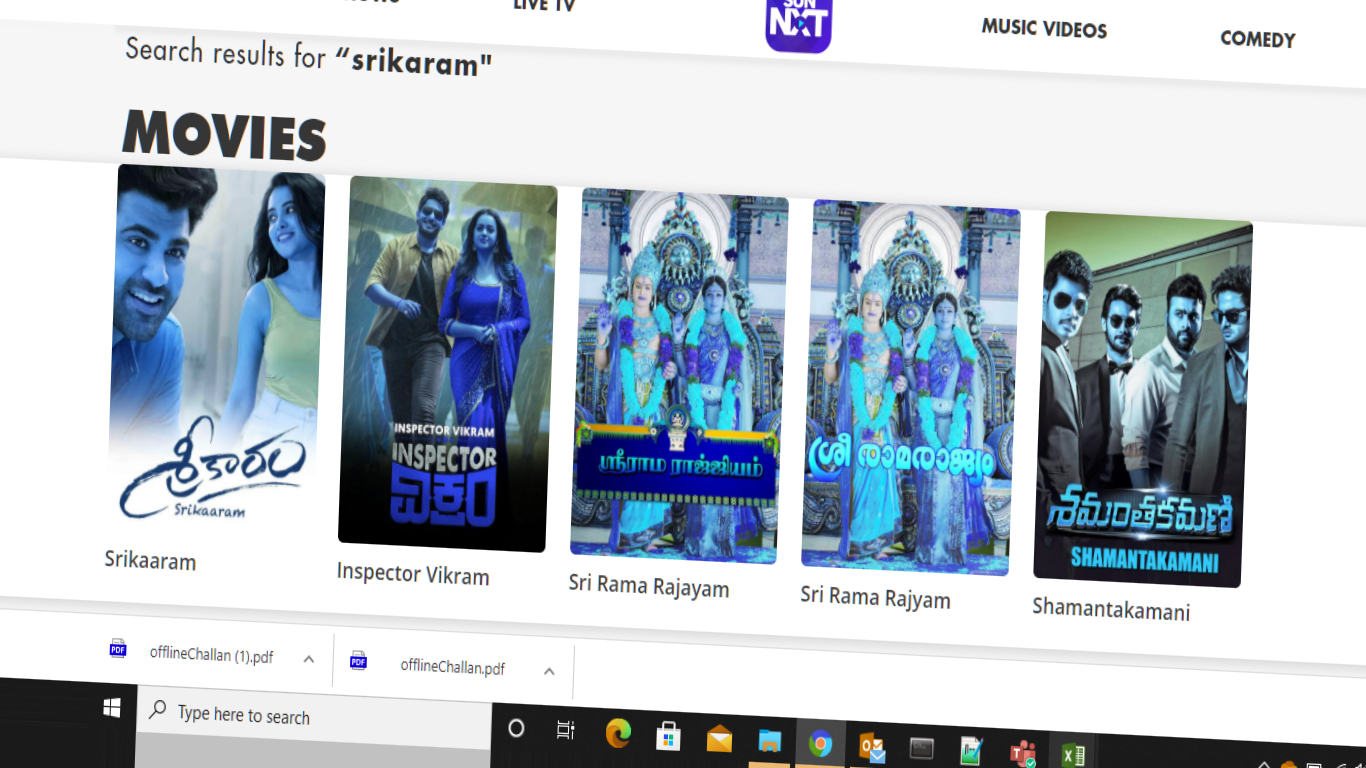resultsfound: (114, 14, 512, 98)
